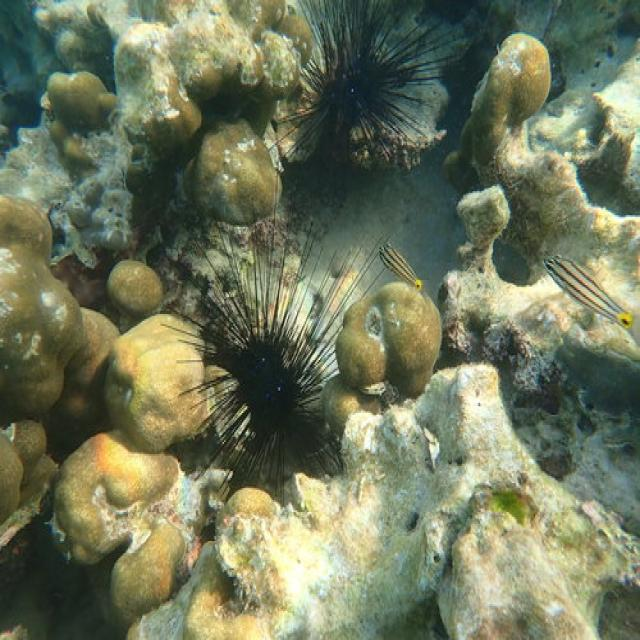Urchin: (148, 186, 386, 495), (264, 2, 460, 172)
